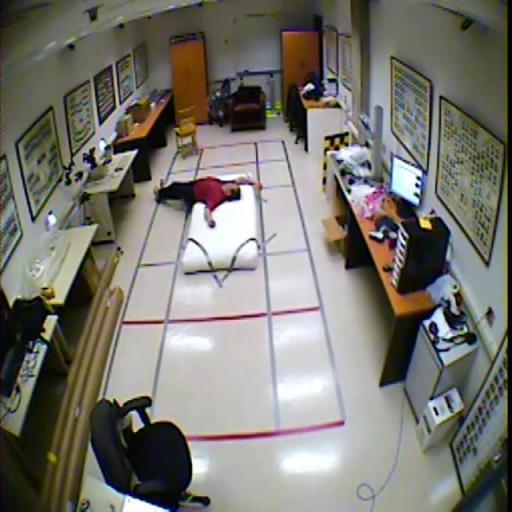Fall: (152, 175, 261, 229)
